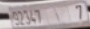2: (19, 11, 25, 25)
3: (24, 10, 30, 25)
4: (30, 9, 36, 25)
7: (75, 5, 83, 20), (35, 10, 42, 25)
9: (12, 11, 19, 26)
a: (52, 5, 60, 22)
